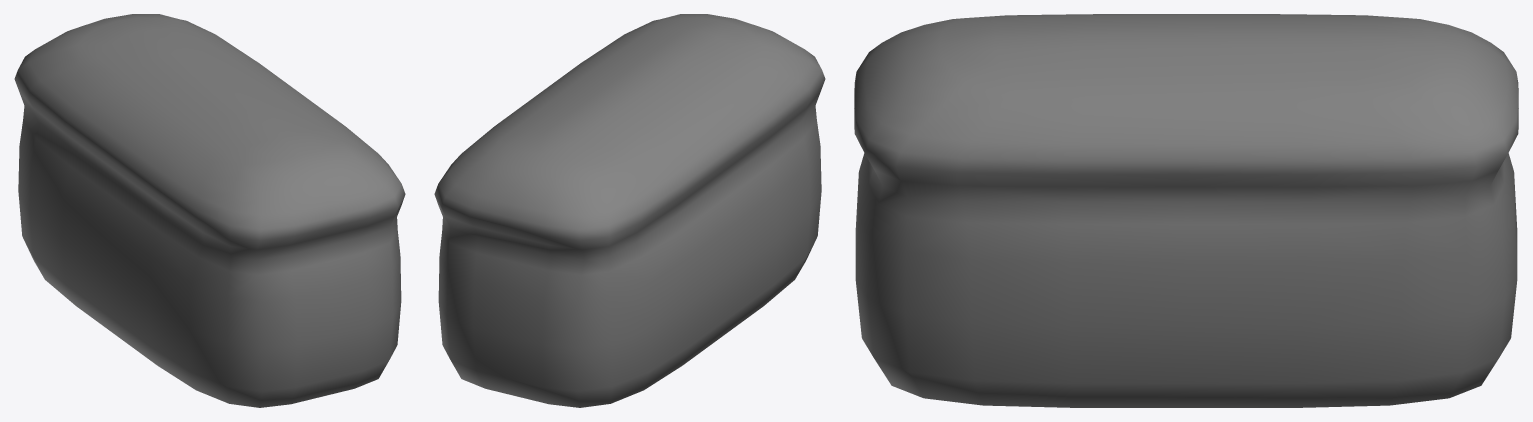
Rendered from loaf.fbx.
The picture shows the model from 3 angles, left to right: view 1: azimuth 30°, elevation 25°; view 2: azimuth 150°, elevation 25°; view 3: azimuth 270°, elevation 25°; orthographic projection. The views are drawn at different scales.
Parts seen in each view (by area): view 1: loaf; view 2: loaf; view 3: loaf.
Boxes of the visible parts, bbox=[...] form: loaf: bbox=[14, 14, 405, 407]; loaf: bbox=[434, 14, 825, 407]; loaf: bbox=[854, 14, 1518, 407].
Size of the model in its own units: 1.01 by 1.11 by 2.06.
Materials: 1 (1 with a texture image).
